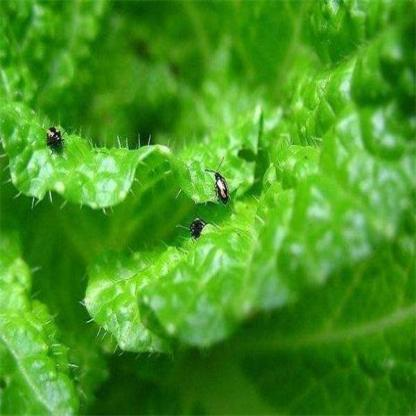beetle: (203, 162, 237, 203), (42, 126, 68, 149), (190, 213, 205, 234)
